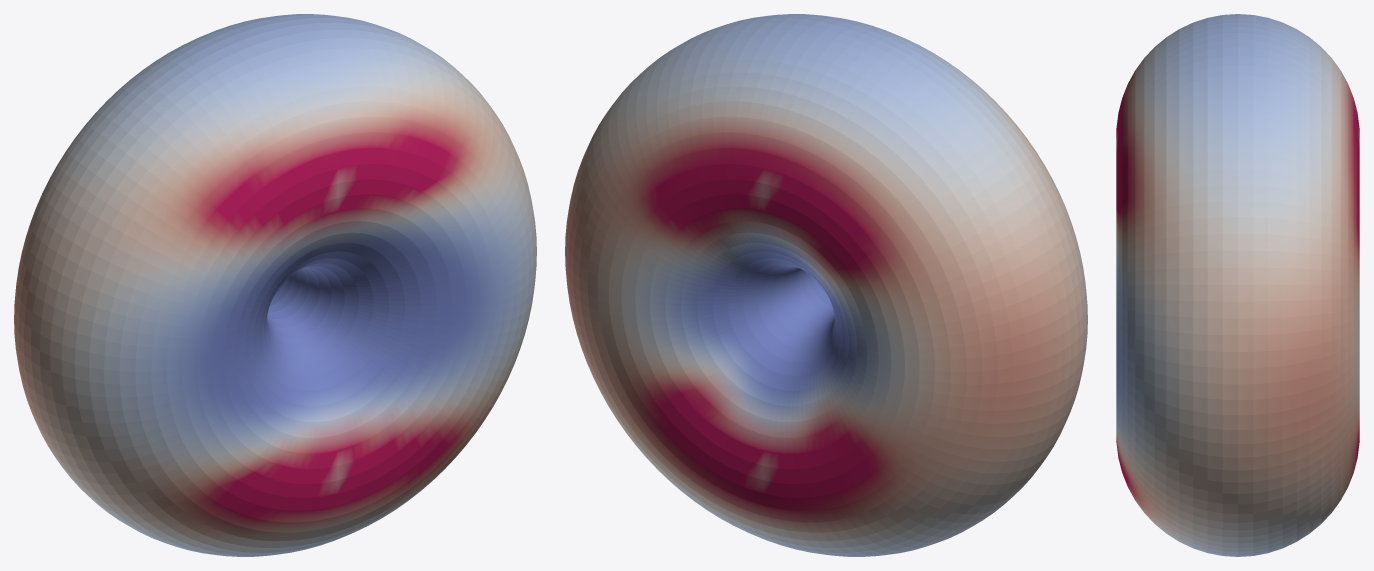
3 renders of one model, left to right at view 1: azimuth 30°, elevation 25°; view 2: azimuth 150°, elevation 25°; view 3: azimuth 270°, elevation 25°, orthographic. The views are drawn at different scales.
Parts seen in each view (by area): view 1: world; view 2: world; view 3: world.
Boxes of the visible parts, left/top/right/bottom form: world: left=14, top=14, right=536, bottom=556; world: left=565, top=14, right=1087, bottom=556; world: left=1116, top=14, right=1359, bottom=556.
Size of the model in its own units: 18.13 by 18.13 by 8.12.
